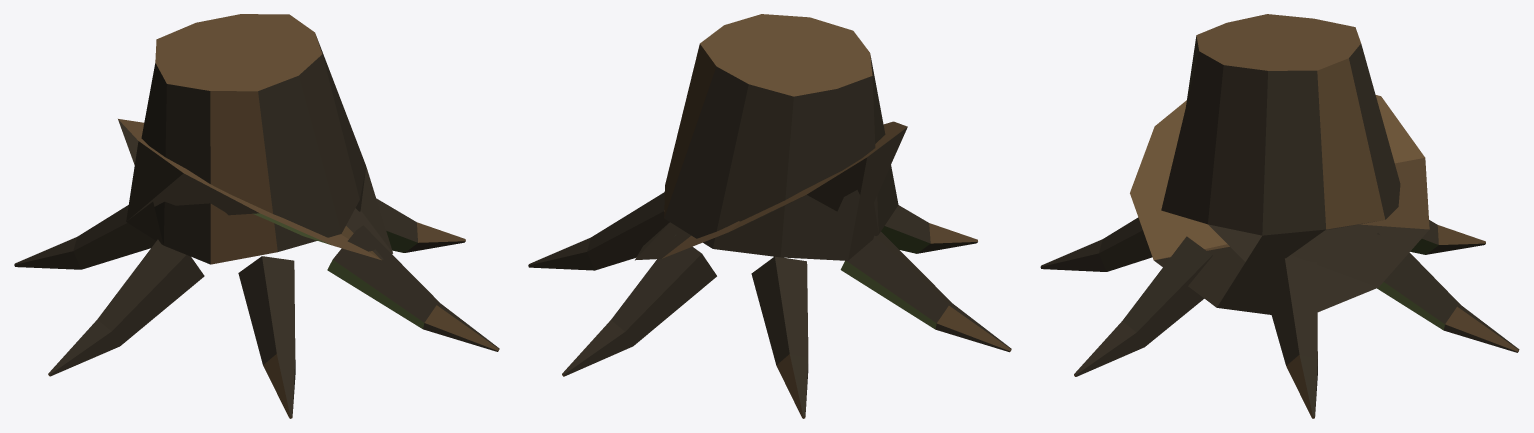
The model's file is wood_003b_broken_stump.glb.
The picture shows the model from 3 angles, left to right: view 1: azimuth 30°, elevation 25°; view 2: azimuth 150°, elevation 25°; view 3: azimuth 270°, elevation 25°; orthographic projection.
Parts seen in each view (by area): view 1: wood_003b_broken_stump__mesh; view 2: wood_003b_broken_stump__mesh; view 3: wood_003b_broken_stump__mesh.
Part boxes in pixels (<box>): wood_003b_broken_stump__mesh: <box>14,14,499,418</box>; wood_003b_broken_stump__mesh: <box>528,14,1011,418</box>; wood_003b_broken_stump__mesh: <box>1040,14,1519,418</box>.
Bounding box in the file's own units: 3.86 × 2.2 × 3.6.
